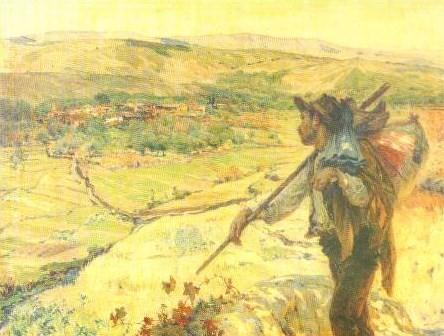person: (238, 96, 397, 335)
